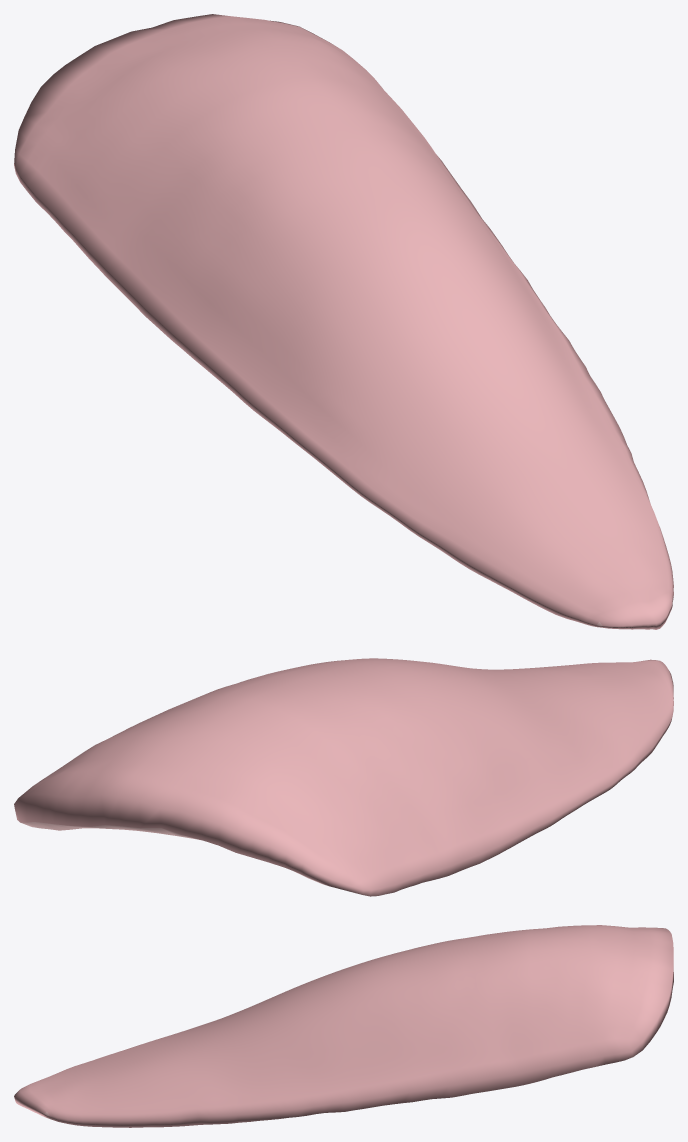
Rendered from Curved acrylic nail_29.7.1.fbx.
3 renders of one model, top to bottom at view 1: azimuth 30°, elevation 25°; view 2: azimuth 150°, elevation 25°; view 3: azimuth 270°, elevation 25°, orthographic. The views are drawn at different scales.
Parts seen in each view (by area): view 1: curved acrylic nail _size 4.001; view 2: curved acrylic nail _size 4.001; view 3: curved acrylic nail _size 4.001.
Boxes of the visible parts, x1=… form: curved acrylic nail _size 4.001: x1=14, y1=14, x2=673, y2=629; curved acrylic nail _size 4.001: x1=14, y1=658, x2=673, y2=896; curved acrylic nail _size 4.001: x1=14, y1=925, x2=673, y2=1127.
Size of the model in its own units: 81.28 by 56.97 by 197.
Materials: 1 (1 with a texture image).
